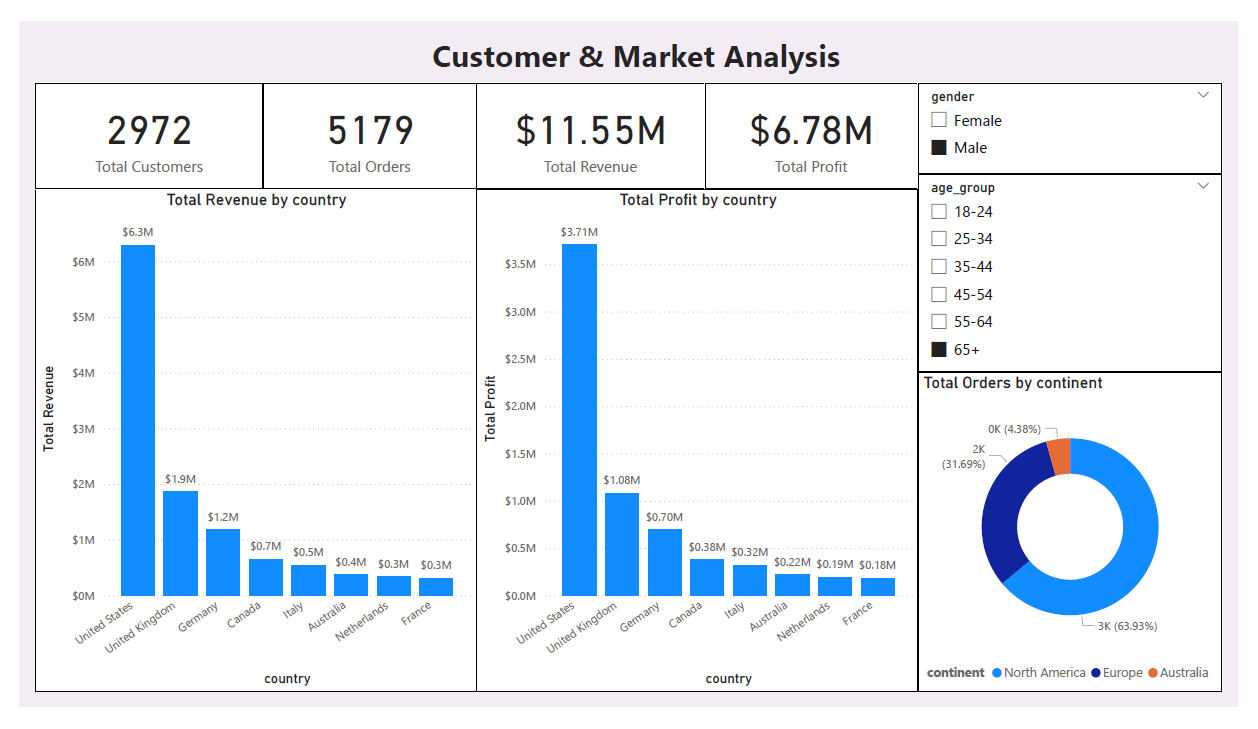

This screenshot's page, from the dashboard's own definition file:
{"tool":"powerbi","page":{"name":"Customer Segmentation & Market Analysis","canvas":[1280,720],"ordinal":3},"visuals":[{"type":"textbox","box":[48,8,1200,56],"z":0},{"type":"donutChart","fields":{"Category":["gold_dim_customers.continent"],"Y":["gold_fact_sales.Total Orders"]},"box":[944,368,320,336],"z":1000},{"type":"clusteredColumnChart","fields":{"Category":["gold_dim_customers.country"],"Y":["gold_fact_sales.Total Revenue"]},"box":[16,176,464,528],"z":2000},{"type":"card","fields":{"Values":["gold_dim_customers.Total Customers"]},"box":[16,64,240,112],"z":3000},{"type":"card","fields":{"Values":["gold_fact_sales.Total Orders"]},"box":[256,64,224,112],"z":4000},{"type":"card","fields":{"Values":["gold_fact_sales.Total Revenue"]},"box":[480,64,240,112],"z":5000},{"type":"card","fields":{"Values":["gold_fact_sales.Total Profit"]},"box":[720,64,224,112],"z":6000},{"type":"slicer","fields":{"Values":["gold_dim_customers.gender"]},"box":[944,64,320,96],"z":7000},{"type":"slicer","fields":{"Values":["gold_dim_customers.age_group"]},"box":[944,160,320,208],"z":8000},{"type":"clusteredColumnChart","fields":{"Category":["gold_dim_customers.country"],"Y":["gold_fact_sales.Total Profit"]},"box":[480,176,464,528],"z":8001}]}

Visuals, with their boxes in screenshot pixels (x1, y1, x2, y2), scaled from the page's 1280x720 canvas onto the 1258x729 screenshot:
textbox: {"x1": 47, "y1": 8, "x2": 1227, "y2": 65}
donutChart - gold_dim_customers.continent x gold_fact_sales.Total Orders: {"x1": 928, "y1": 373, "x2": 1242, "y2": 713}
clusteredColumnChart - gold_dim_customers.country x gold_fact_sales.Total Revenue: {"x1": 16, "y1": 178, "x2": 472, "y2": 713}
card - gold_dim_customers.Total Customers: {"x1": 16, "y1": 65, "x2": 252, "y2": 178}
card - gold_fact_sales.Total Orders: {"x1": 252, "y1": 65, "x2": 472, "y2": 178}
card - gold_fact_sales.Total Revenue: {"x1": 472, "y1": 65, "x2": 708, "y2": 178}
card - gold_fact_sales.Total Profit: {"x1": 708, "y1": 65, "x2": 928, "y2": 178}
slicer - gold_dim_customers.gender: {"x1": 928, "y1": 65, "x2": 1242, "y2": 162}
slicer - gold_dim_customers.age_group: {"x1": 928, "y1": 162, "x2": 1242, "y2": 373}
clusteredColumnChart - gold_dim_customers.country x gold_fact_sales.Total Profit: {"x1": 472, "y1": 178, "x2": 928, "y2": 713}
